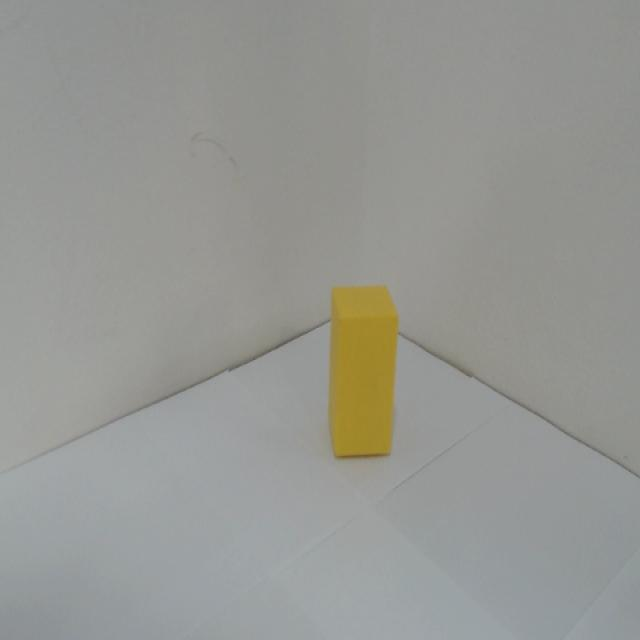cube: (322, 282, 403, 467)
